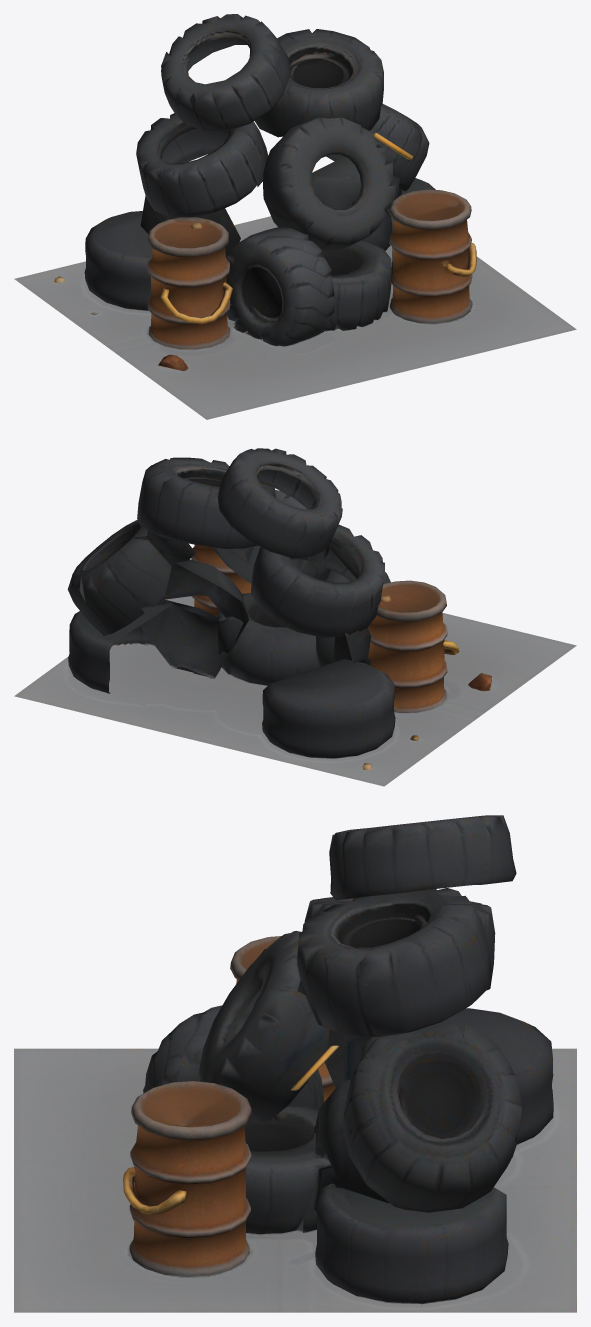
The model's file is Hub_TiresAndBarrels.glb.
3 renders of one model, top to bottom at view 1: azimuth 30°, elevation 25°; view 2: azimuth 150°, elevation 25°; view 3: azimuth 270°, elevation 25°, orthographic. The views are drawn at different scales.
Visible parts, largest first — view 1: tripo_node_e487d019-1e7c-41ae-b848-2ef5169bfc25; view 2: tripo_node_e487d019-1e7c-41ae-b848-2ef5169bfc25; view 3: tripo_node_e487d019-1e7c-41ae-b848-2ef5169bfc25.
Boxes of the visible parts, x1=… form: tripo_node_e487d019-1e7c-41ae-b848-2ef5169bfc25: x1=14, y1=14, x2=576, y2=419; tripo_node_e487d019-1e7c-41ae-b848-2ef5169bfc25: x1=14, y1=448, x2=576, y2=786; tripo_node_e487d019-1e7c-41ae-b848-2ef5169bfc25: x1=14, y1=815, x2=576, y2=1312.
Size of the model in its own units: 1 by 0.6707 by 0.9013.
Materials: 1 (1 with a texture image).
